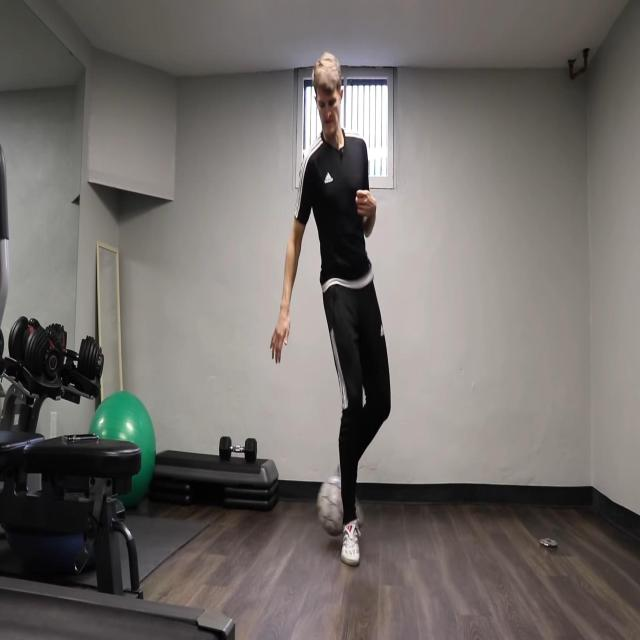Soccer Ball: (317, 476, 350, 536)
